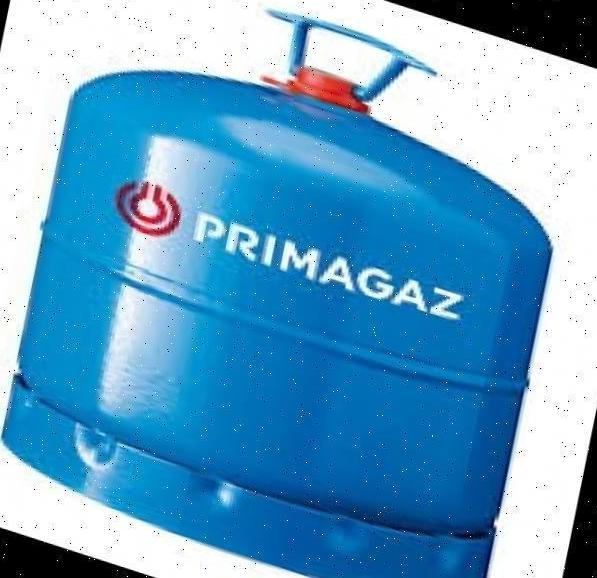cylinder: (1, 0, 597, 578)
